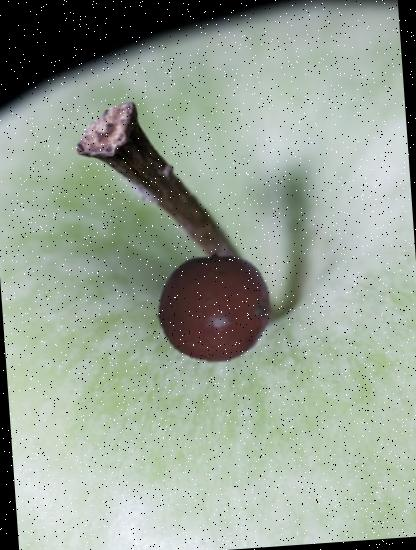Pomegranate: (150, 245, 275, 370)
